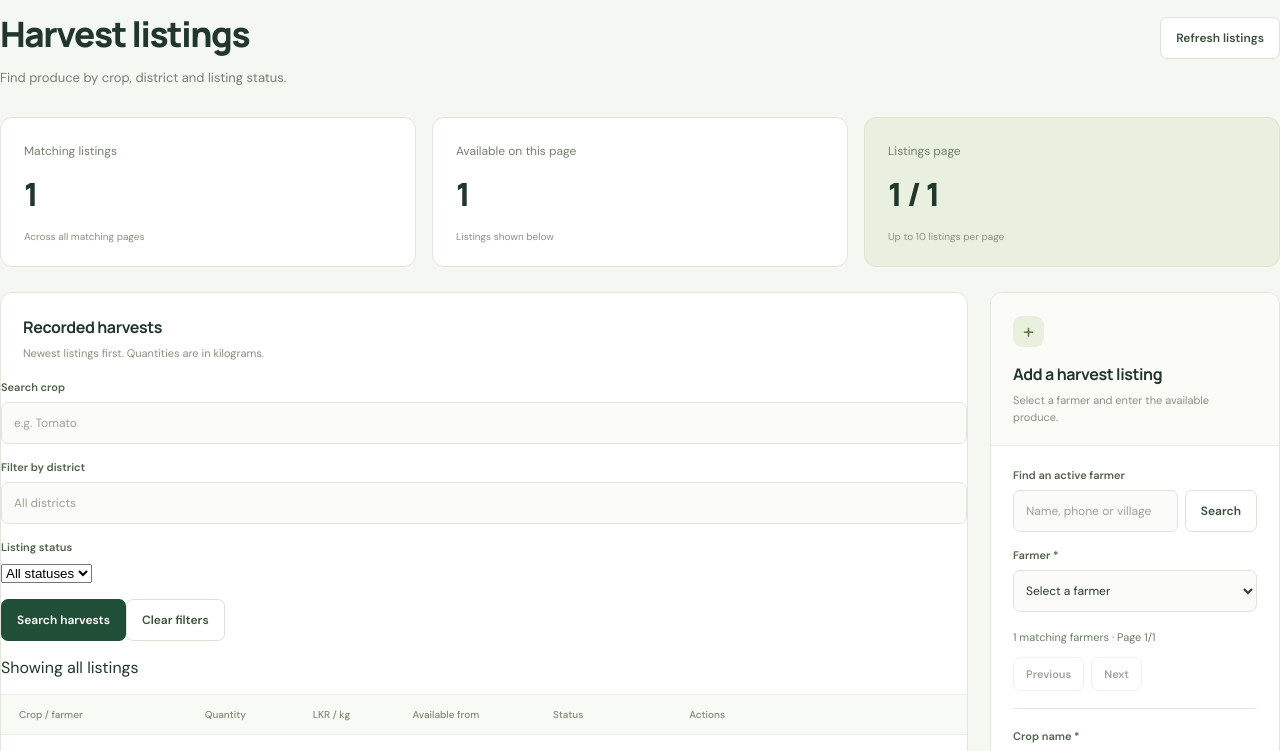
Test case: HarvestListings › saves correctly with a provided price
Select "Demo Farmer — TEST-001 — Matale" in the dropdown labelled "Farmer *" at (1135, 591), box [1013, 570, 1257, 612]
(page scrolled)
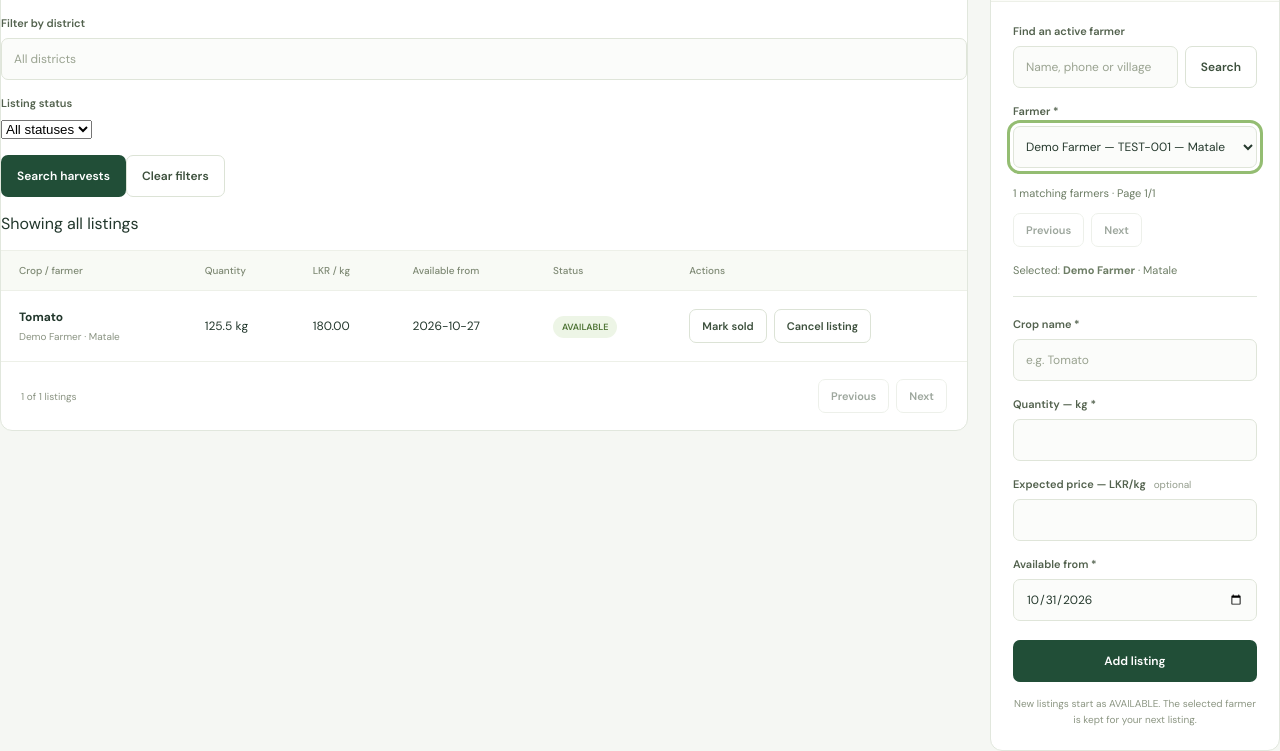
Type "  Tomato  " into the field labelled "Crop name *" at (1135, 360), box [1013, 339, 1257, 381]
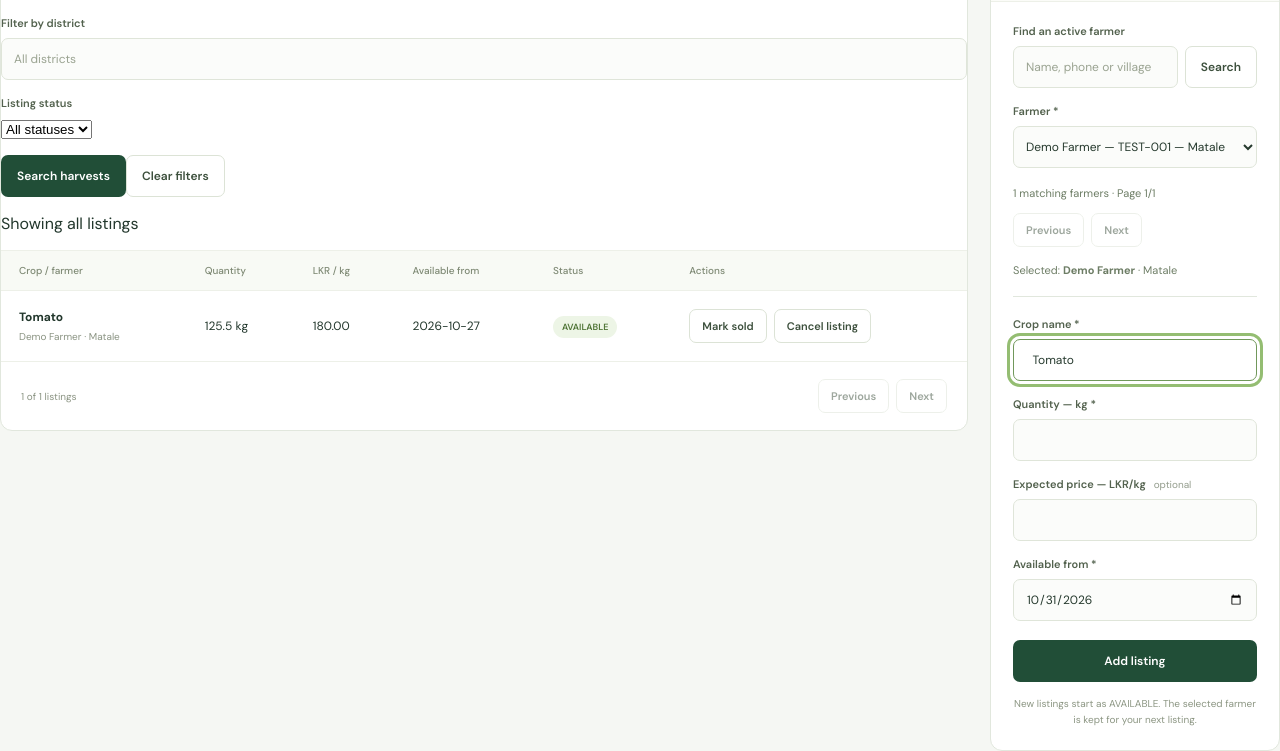
Type "125.5" into the number field labelled "Quantity — kg *" at (1135, 440), box [1013, 419, 1257, 461]
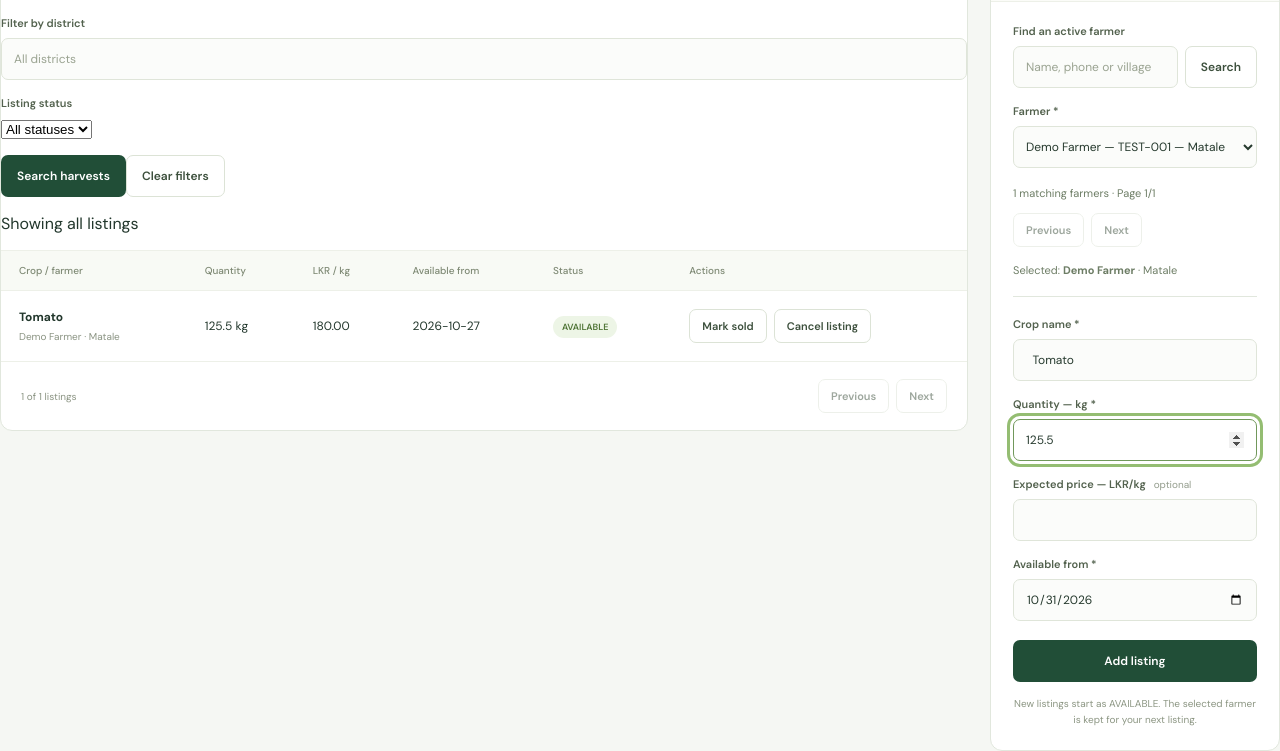
Type "180" into the number field labelled "Expected price — LKR/kg optional" at (1135, 520), box [1013, 499, 1257, 541]
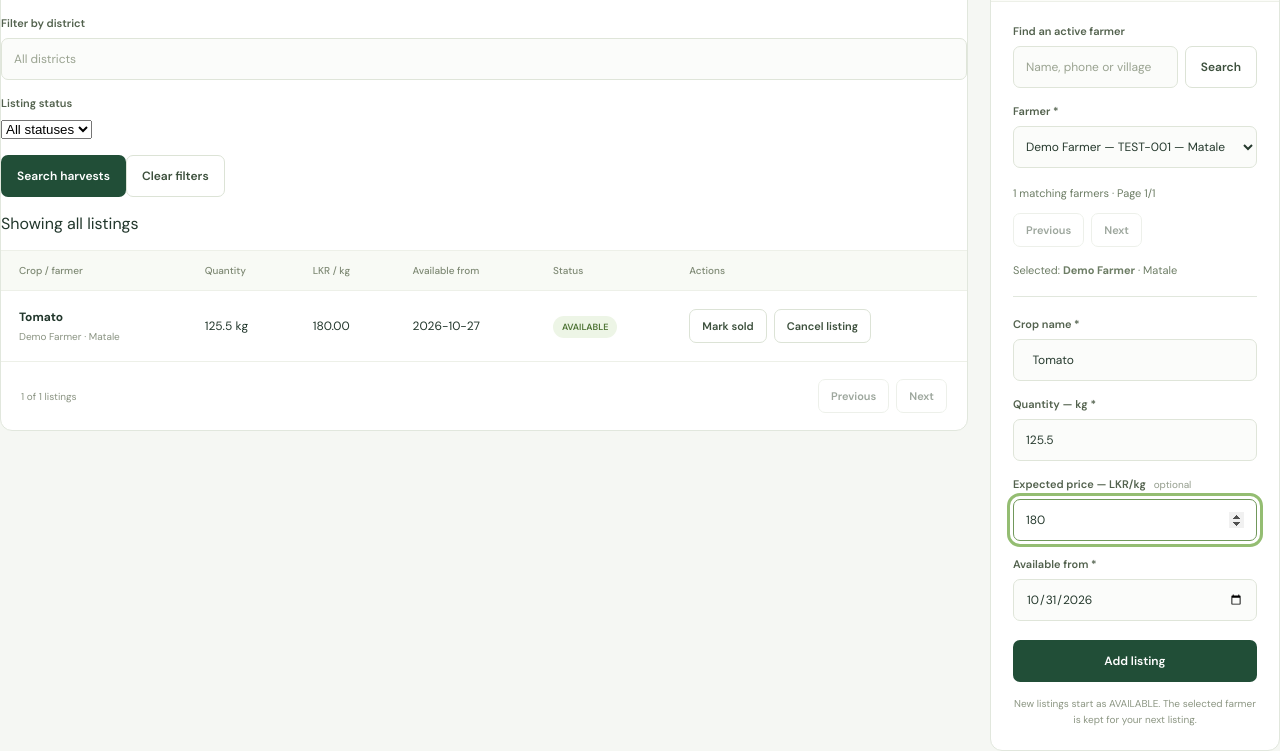
Type "2026-10-27" into the date field labelled "Available from *" at (1135, 600), box [1013, 579, 1257, 621]
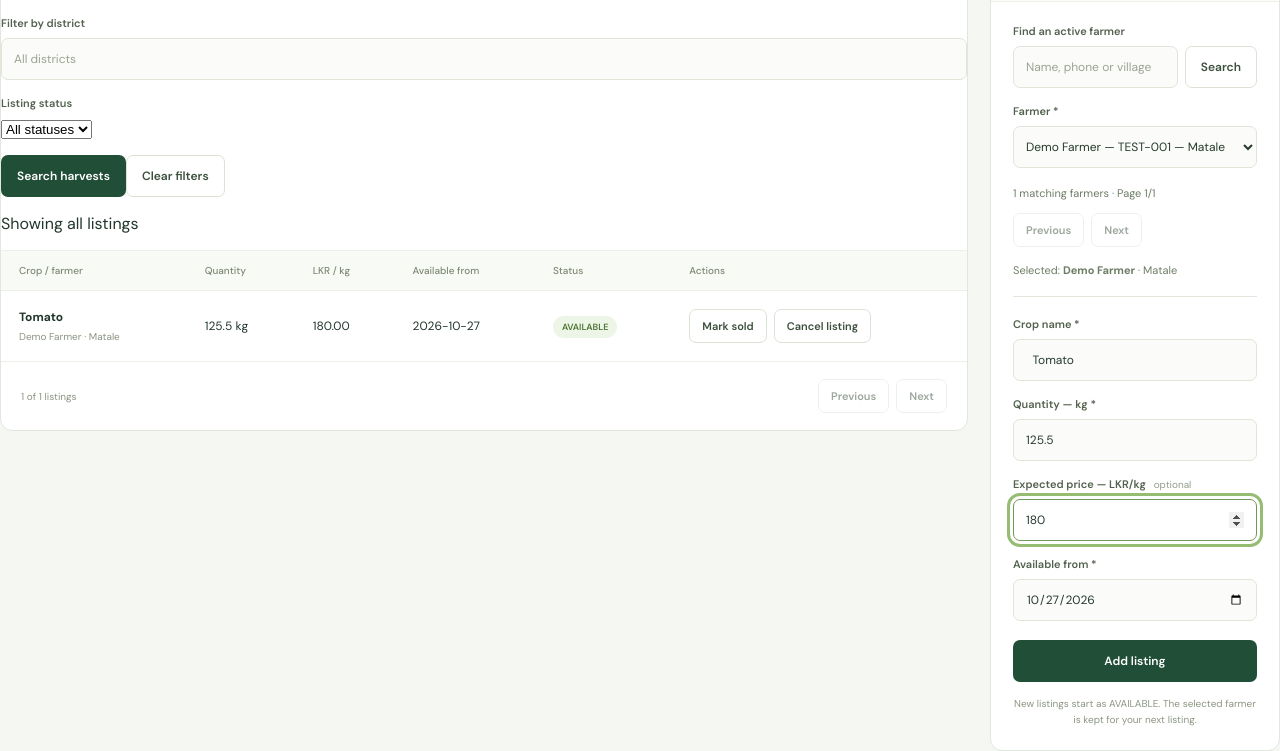
Click the button "Add listing" at (1135, 661), box [1013, 640, 1257, 682]
(page scrolled)
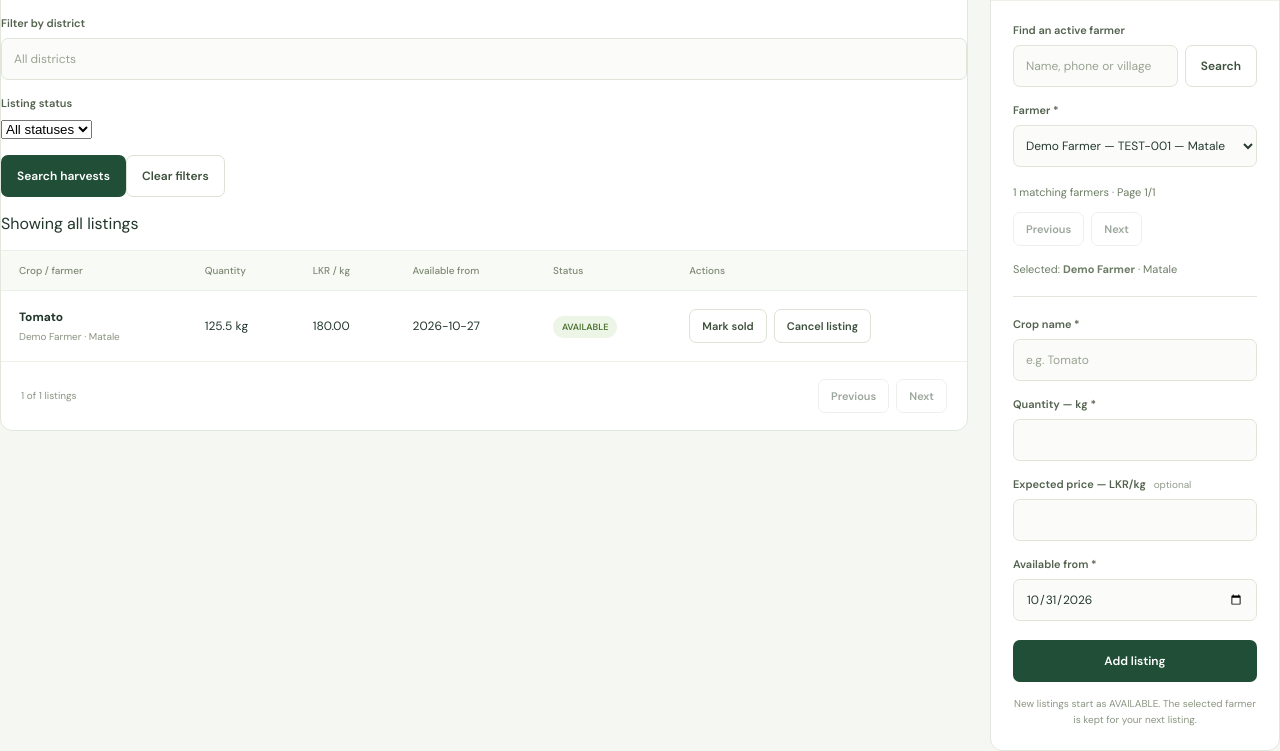
Check: the field labelled "Crop name *" is empty, box [1013, 339, 1257, 381]
Check: the number field labelled "Quantity — kg *" is not empty, box [1013, 419, 1257, 461]
